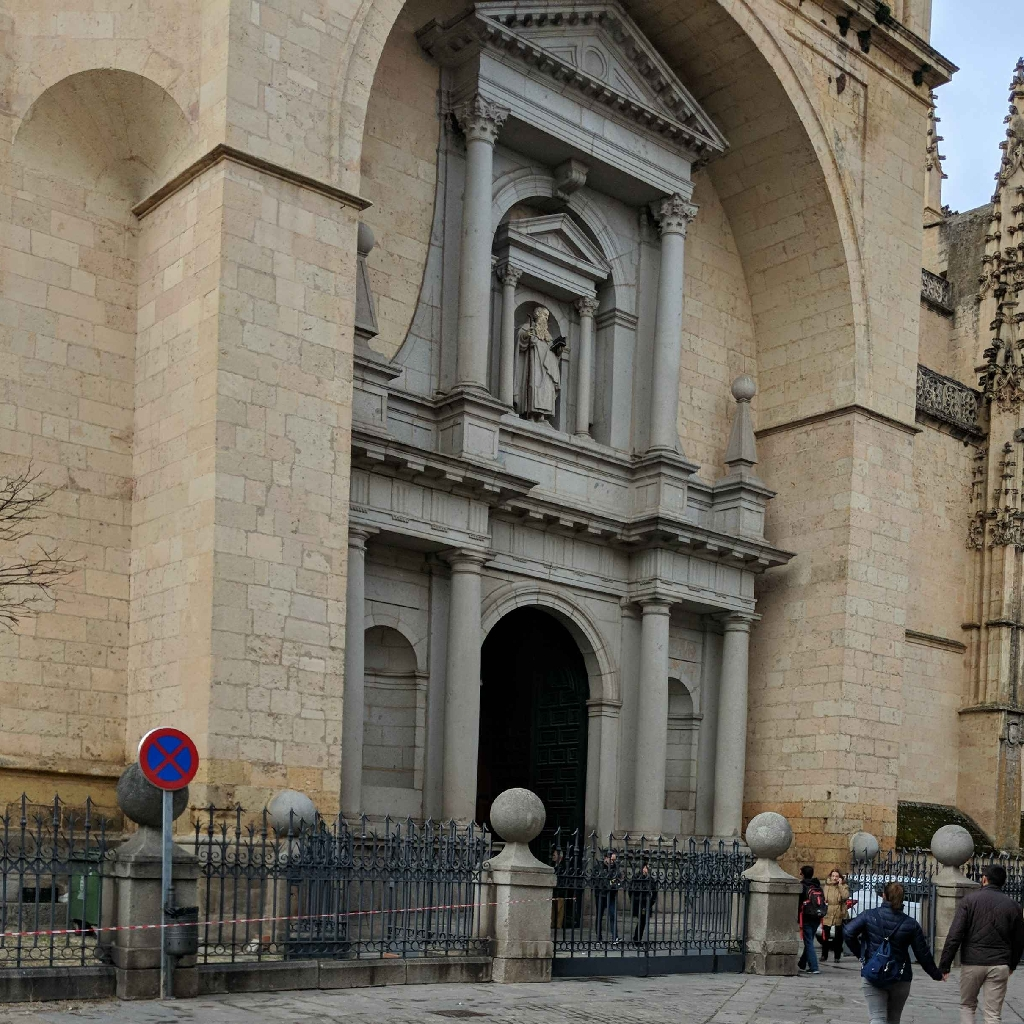arco-medio-punto: (468, 596, 601, 701)
fronton: (470, 1, 731, 159)
fronton-partido: (501, 206, 610, 280)
